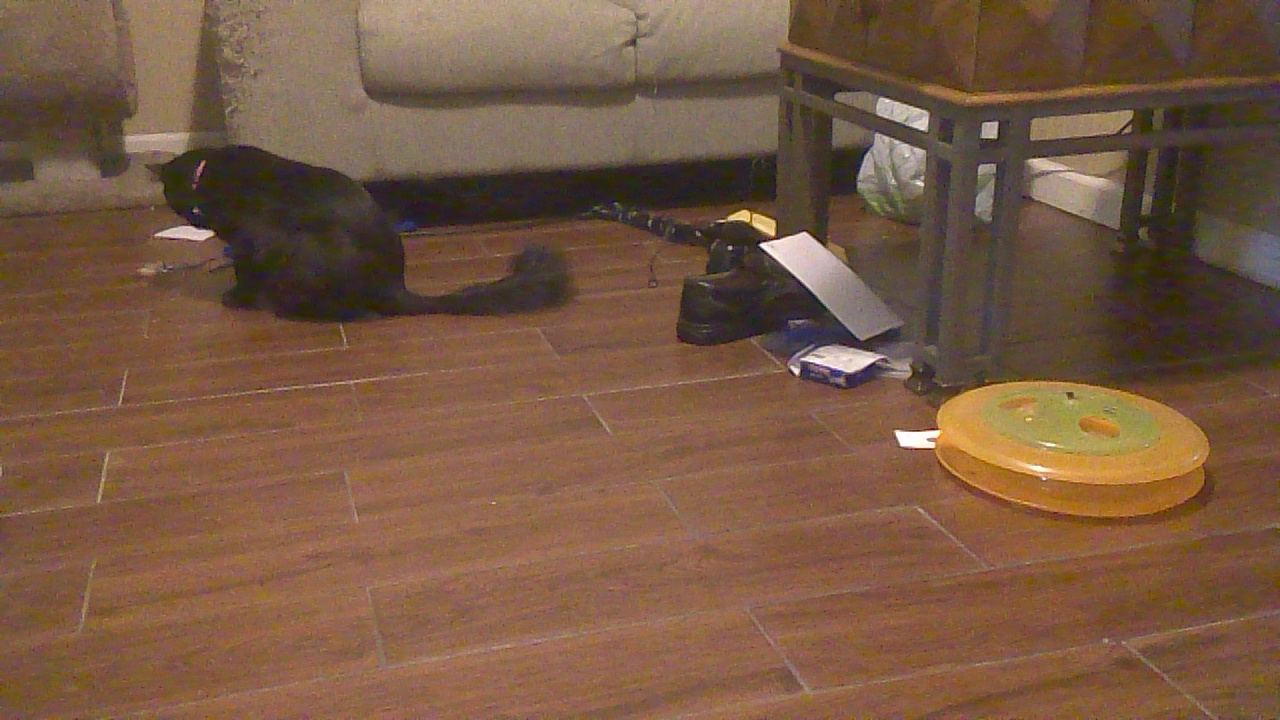cat: (143, 141, 590, 333)
